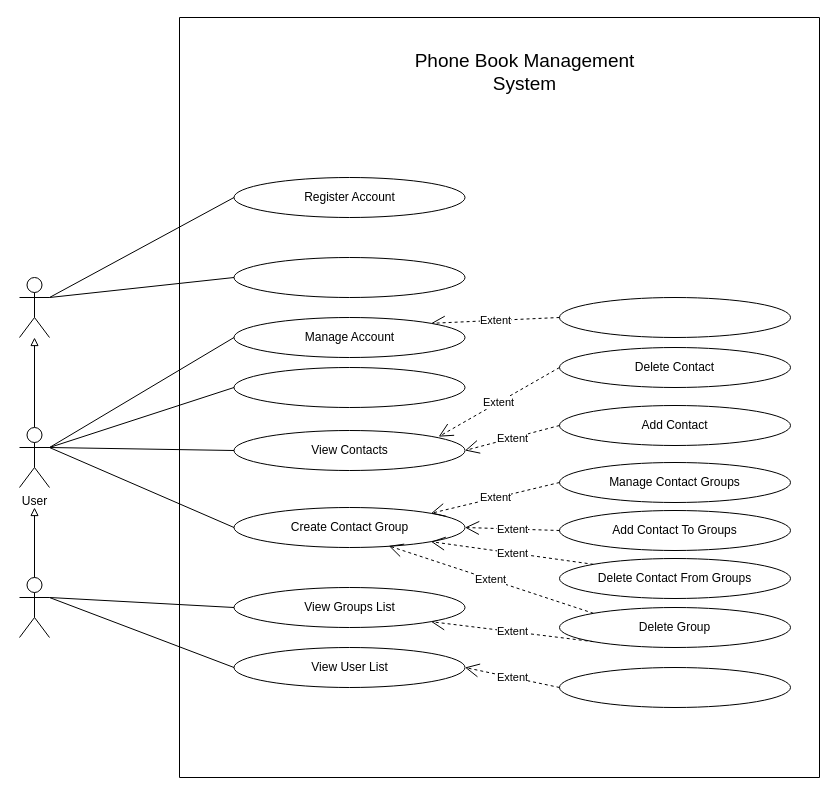
The diagram is 837 pixels wide and 795 high, and some of its shapes have lost their labels. The box of each missing label's shape, as (x1, y1, x2, y2) in pixels:
Admin: (18, 576, 50, 638)
Delete User Account: (558, 666, 790, 708)
Log In: (233, 256, 465, 298)
Search Contacts: (233, 366, 465, 408)
Update Contact: (558, 296, 790, 338)
Visitor: (18, 276, 50, 338)
